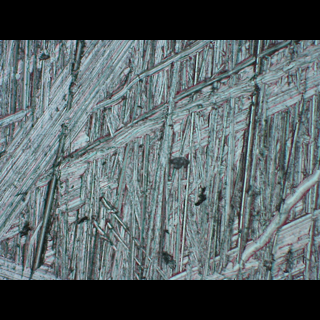d: (5, 40, 319, 280)
